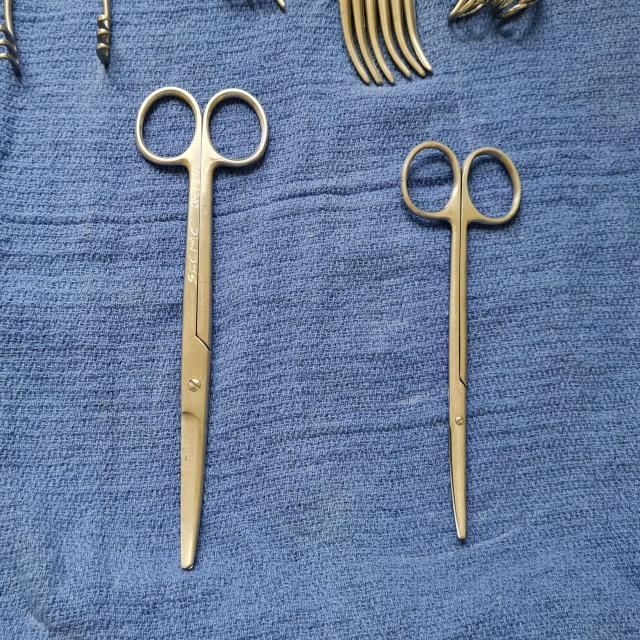Hemostat: (389, 0, 427, 81), (350, 0, 384, 87), (377, 0, 413, 80), (337, 0, 370, 86), (364, 0, 396, 85), (403, 0, 434, 76)
Mayo_metz: (134, 80, 271, 578), (398, 139, 524, 544)
Weitlaner: (0, 0, 115, 85)
